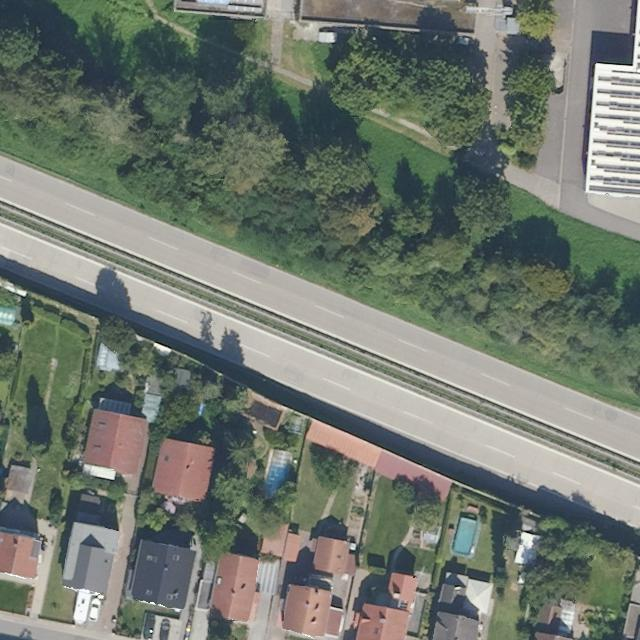PV: (228, 0, 263, 15)
